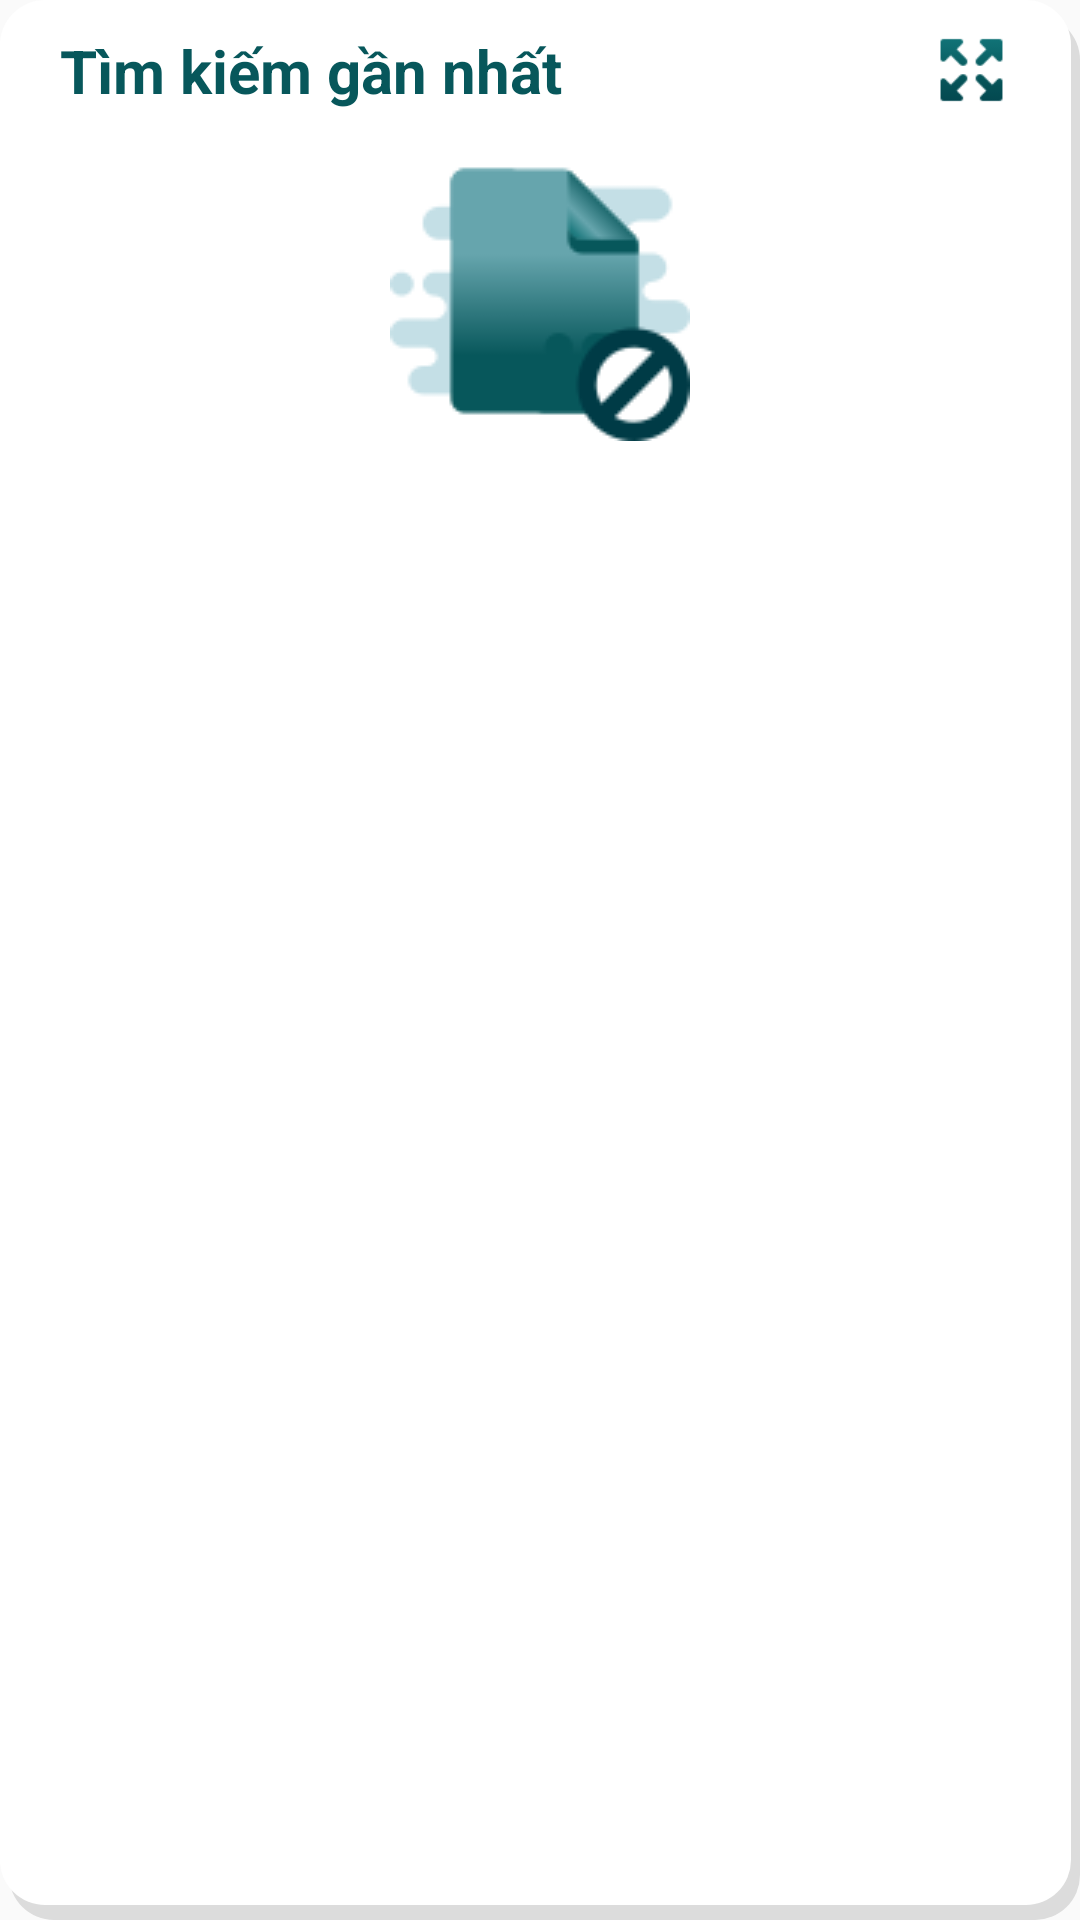

Icons on this 1080 x 1920 Android screen, each with the point to tap as [x,y]:
empty: [540,304]
expand: [971,70]
